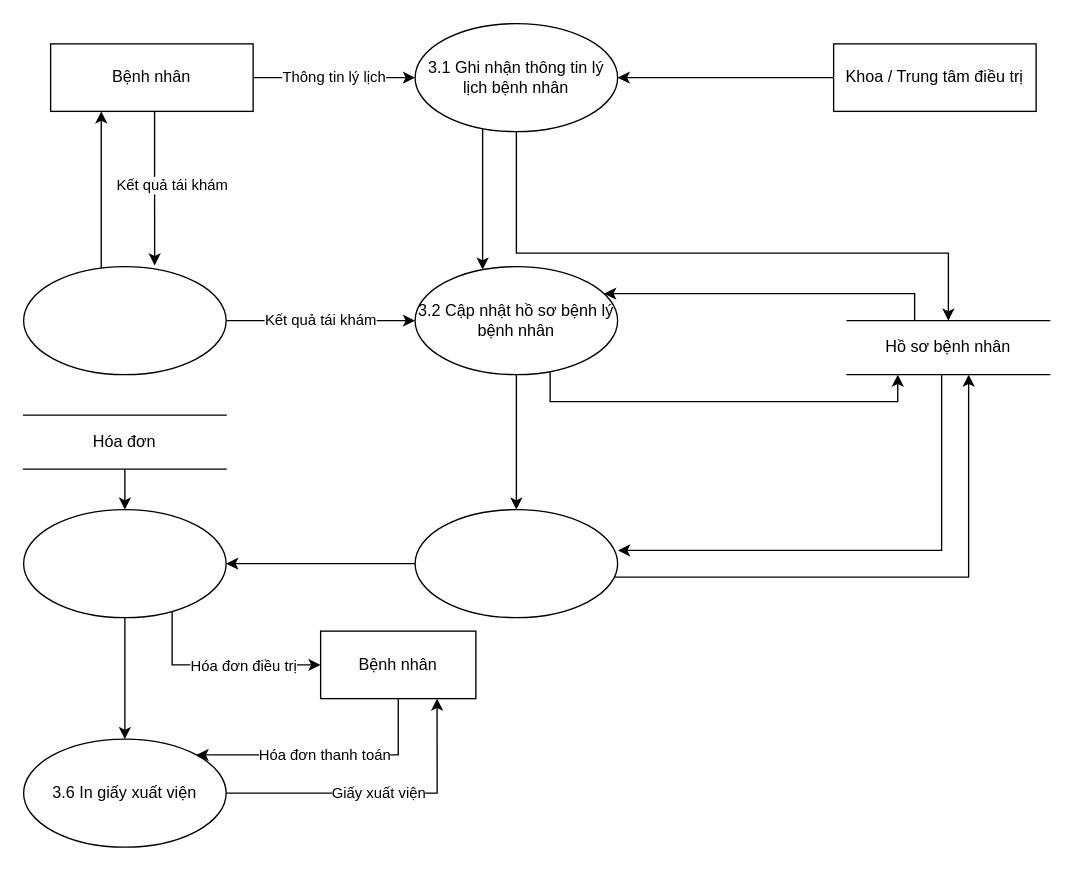
Image size: 1073x871. Some labels were removed from this diagram. The shapes that lost their labels are listed below. From the top down, each one's centre as x and y in pixels, then its label:
At point (124, 320): "3.4 Yêu cầu tái khám".
At point (124, 563): "3.5 In hóa đơn điều trị".
At point (516, 563): "3.3 Cập nhật ngày xuất viện".
